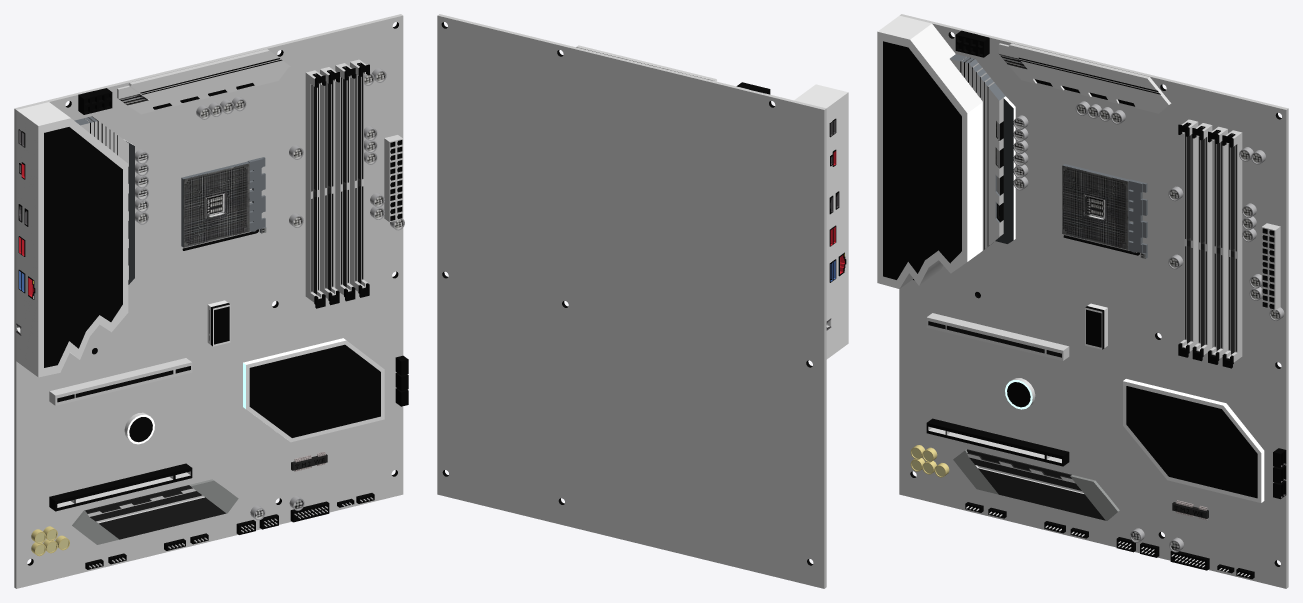
File: Mb.msi perbaiki.fbx
The picture shows the model from 3 angles, left to right: view 1: azimuth 30°, elevation 25°; view 2: azimuth 150°, elevation 25°; view 3: azimuth 330°, elevation 25°; orthographic projection.
Visible parts, largest first — view 1: Cylinder.006; view 2: Cylinder.006; view 3: Cylinder.006.
Boxes of the visible parts, x1,y1,x2,y2 form: Cylinder.006: (14,14,408,588); Cylinder.006: (437,14,848,588); Cylinder.006: (877,14,1288,588).
Size of the model in its own units: 191 by 225 by 20.6.
105 materials, 23 textured.
